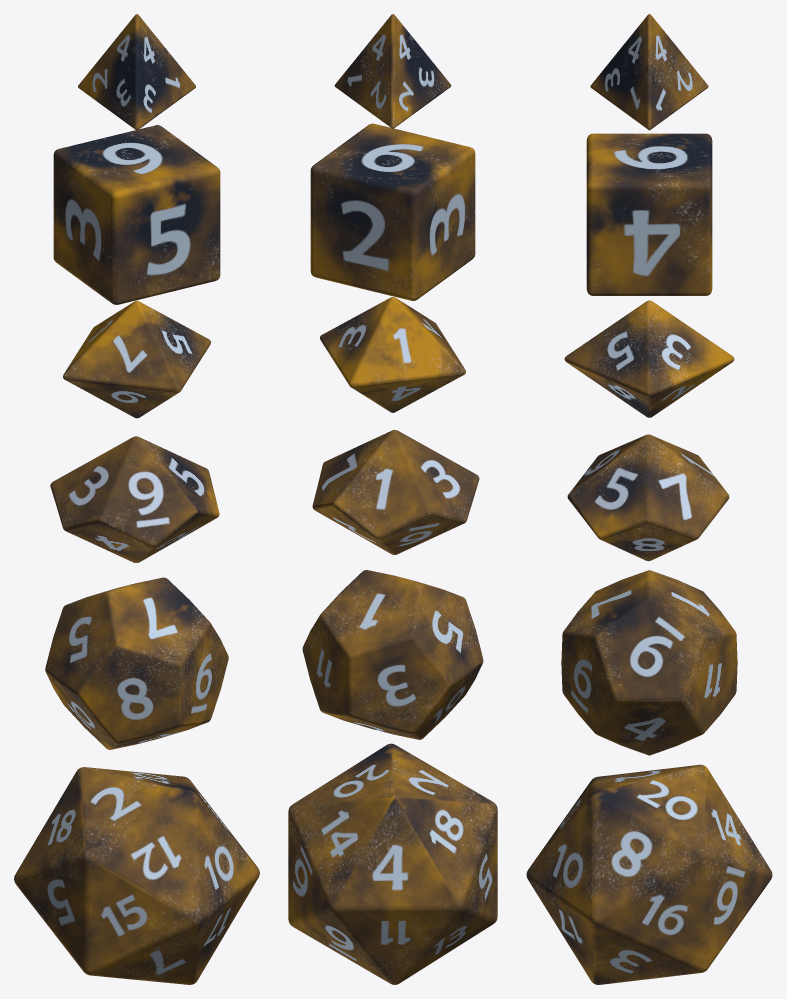
The picture shows the model from 3 angles, left to right: view 1: azimuth 30°, elevation 25°; view 2: azimuth 150°, elevation 25°; view 3: azimuth 270°, elevation 25°; orthographic projection.
Parts seen in each view (by area): view 1: d20_geo, d6_geo, d12_geo, d10_geo, d8_geo, d4_geo; view 2: d20_geo, d6_geo, d12_geo, d10_geo, d8_geo, d4_geo; view 3: d20_geo, d12_geo, d6_geo, d10_geo, d8_geo, d4_geo.
Boxes of the visible parts, box(x1,y1,x2,y2) form: d20_geo: box(14, 767, 259, 984); d6_geo: box(53, 125, 220, 304); d12_geo: box(45, 577, 228, 749); d10_geo: box(50, 436, 219, 562); d8_geo: box(63, 300, 210, 418); d4_geo: box(78, 14, 195, 130); d20_geo: box(288, 743, 497, 984); d6_geo: box(310, 123, 475, 300); d12_geo: box(302, 570, 483, 739); d10_geo: box(312, 430, 479, 554); d8_geo: box(320, 297, 465, 412); d4_geo: box(334, 14, 451, 128); d20_geo: box(526, 764, 772, 984); d12_geo: box(561, 570, 737, 755); d6_geo: box(586, 133, 712, 295); d10_geo: box(567, 434, 729, 561); d8_geo: box(564, 300, 734, 417); d4_geo: box(590, 14, 708, 130).
Bounding box in the file's own units: 0.0354 × 0.1684 × 0.0393.
6 materials, 6 textured.
